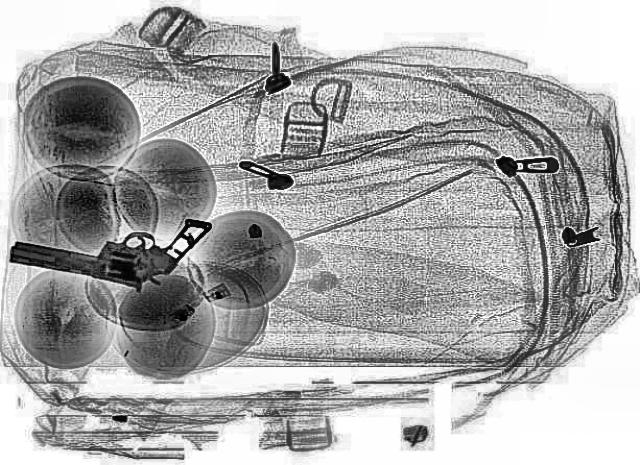Gun: (2, 188, 212, 296)
